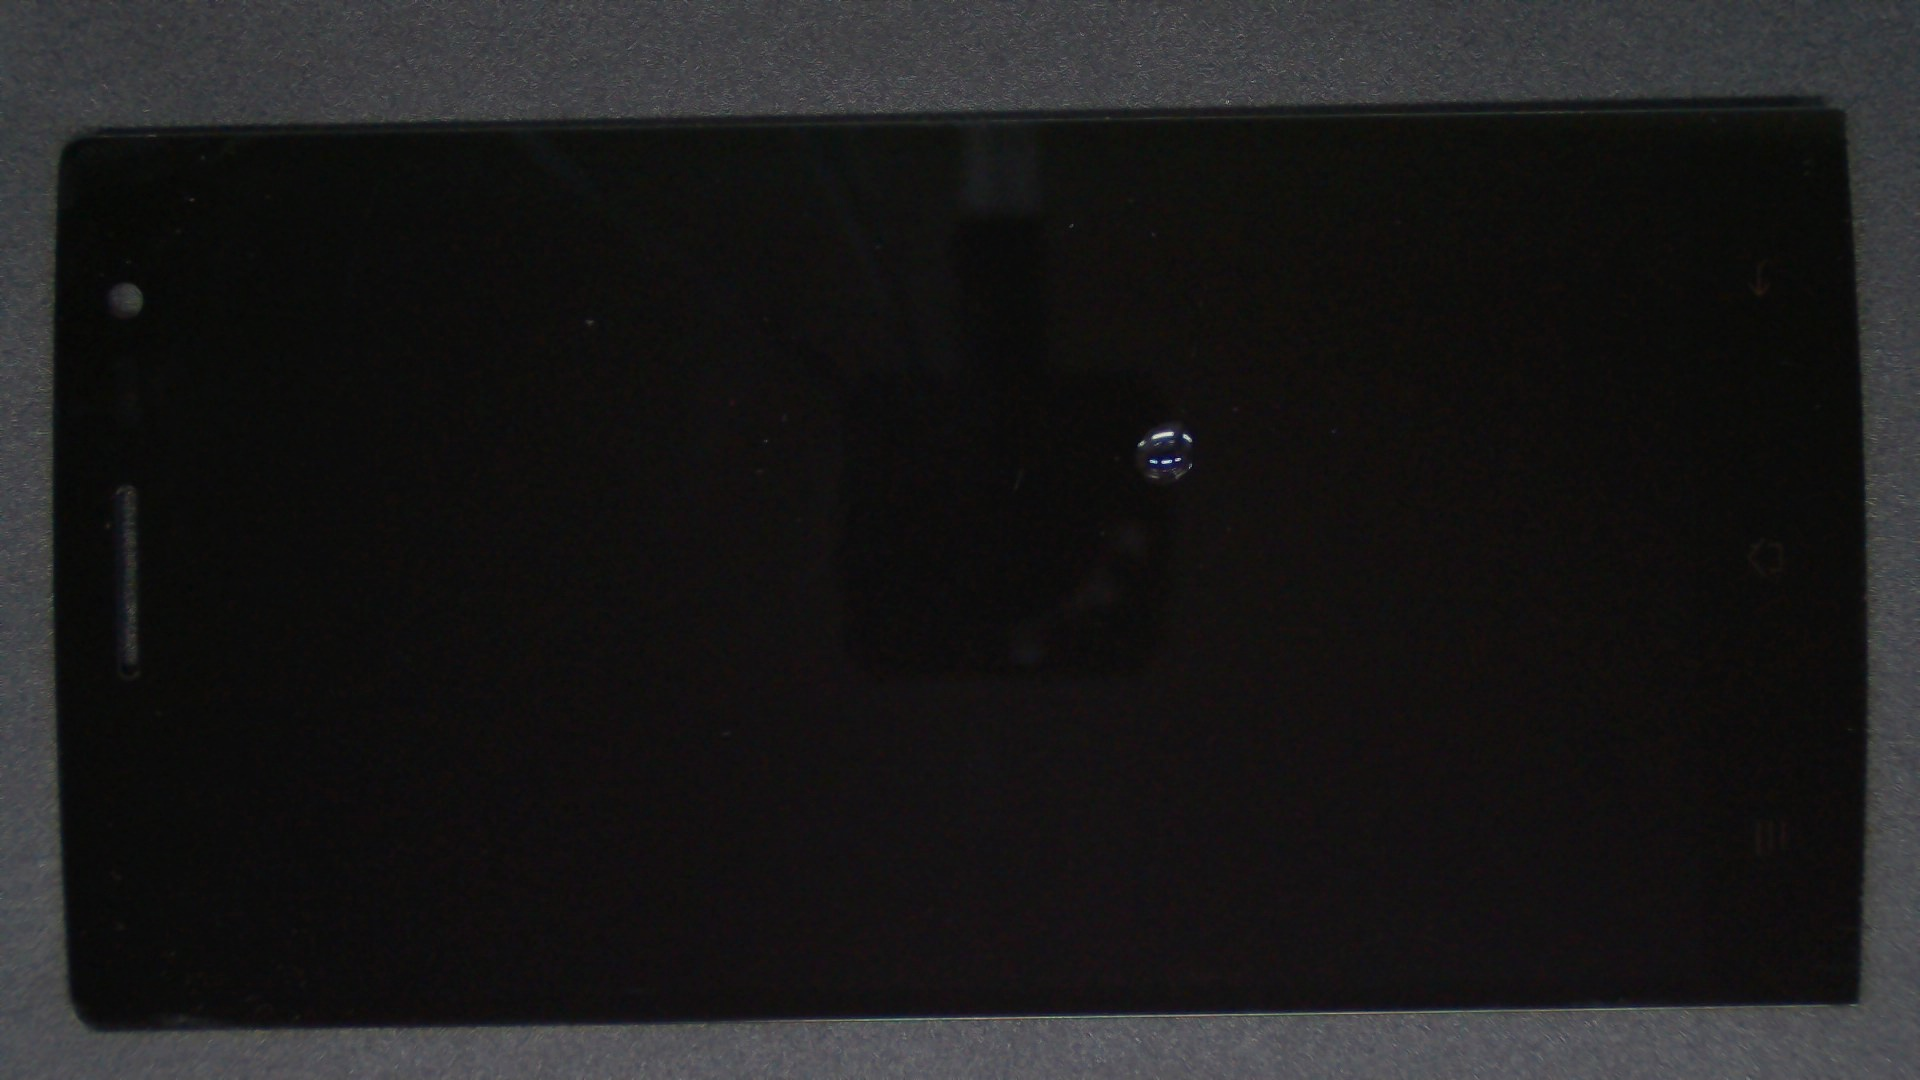oil: (588, 210, 1762, 632)
